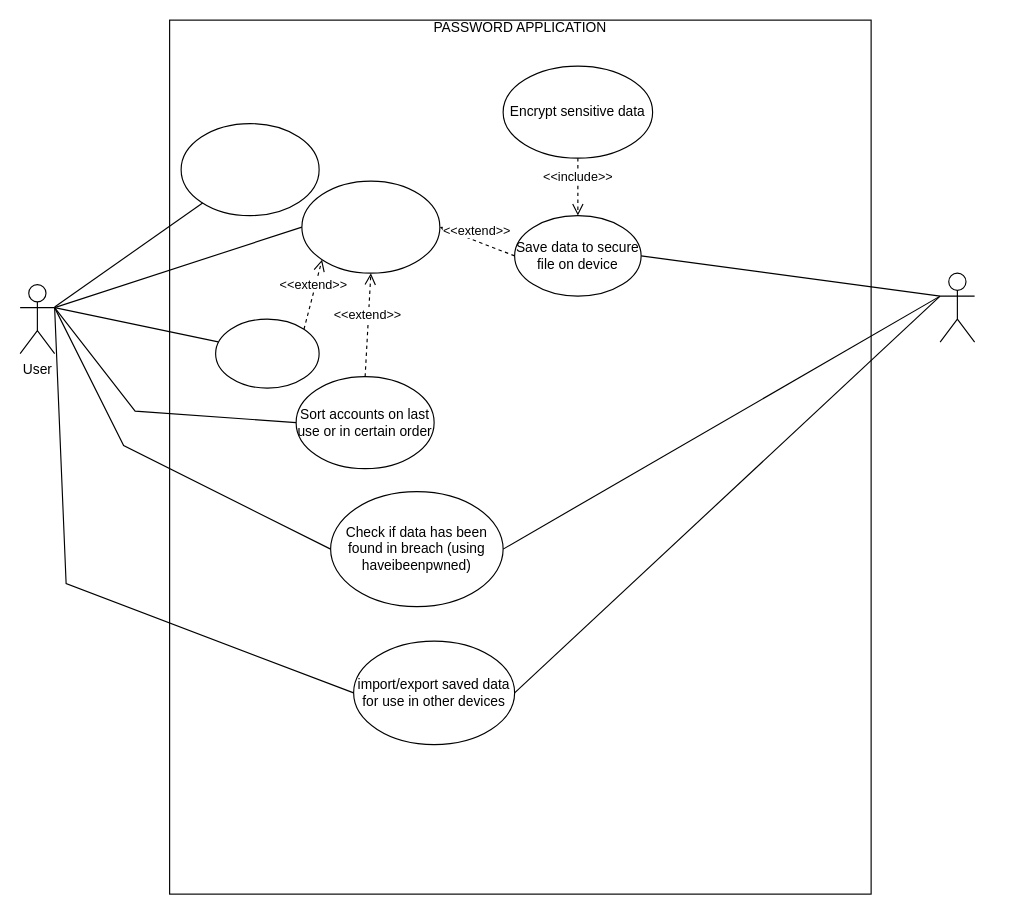
Some shapes in this 1018 by 914 pixel diagram are drawn without their labels. The centre of each missing label's shape, as x and y in pixels:
Data Storage: (957,307)
Generate Password(s): (249,169)
Search for specific accounts: (266,353)
Store sensitive data within a specific "file/account": (370,226)
